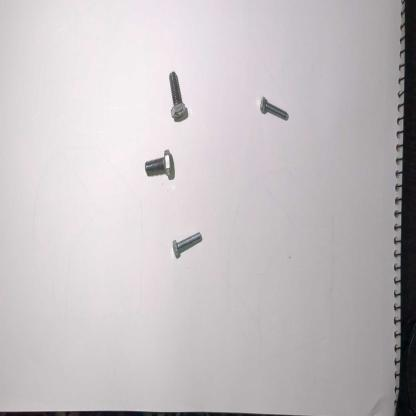Bolts: (166, 68, 190, 128), (144, 146, 174, 194), (255, 91, 292, 128), (169, 227, 209, 261)
